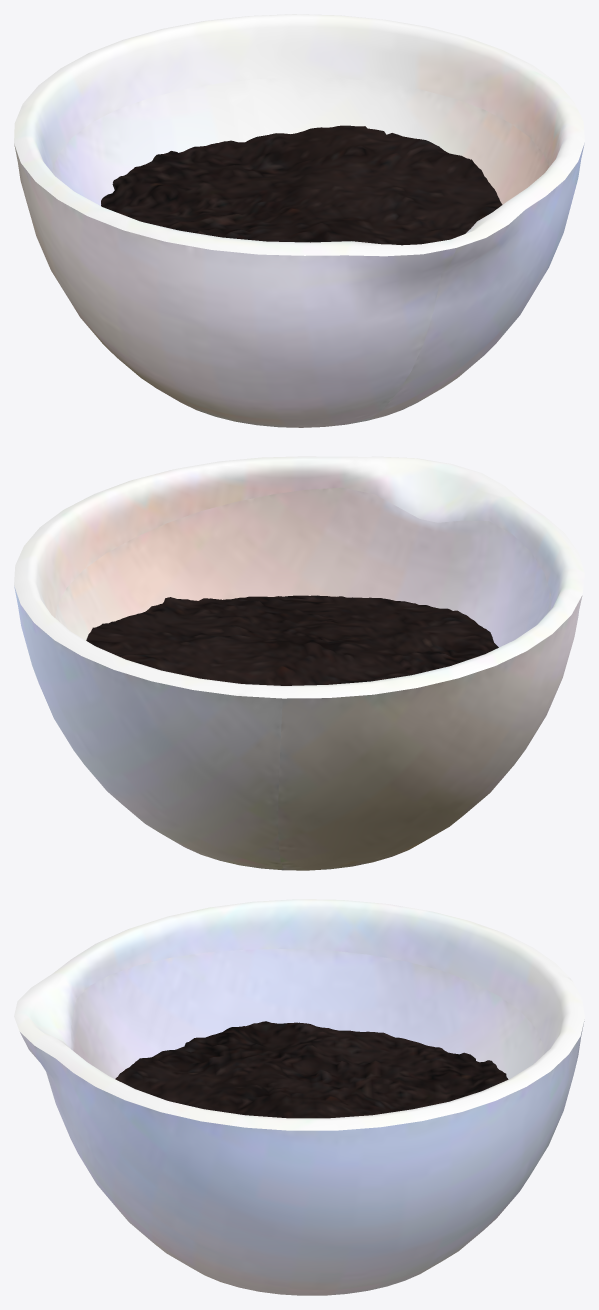
File: mortar_with_sample_2.glb
The picture shows the model from 3 angles, top to bottom: view 1: azimuth 30°, elevation 25°; view 2: azimuth 150°, elevation 25°; view 3: azimuth 270°, elevation 25°; orthographic projection. The views are drawn at different scales.
Visible parts, largest first — view 1: mortar, Probe_grob_2.001; view 2: mortar, Probe_grob_2.001; view 3: mortar, Probe_grob_2.001.
Boxes of the visible parts, box(x1,y1,x2,y2) form: mortar: box(14, 14, 584, 427); Probe_grob_2.001: box(101, 125, 502, 245); mortar: box(14, 456, 584, 870); Probe_grob_2.001: box(86, 595, 498, 685); mortar: box(14, 899, 584, 1295); Probe_grob_2.001: box(115, 1021, 508, 1118).
Size of the model in its own units: 0.0704 by 0.0321 by 0.0735.
3 materials, 2 textured.
